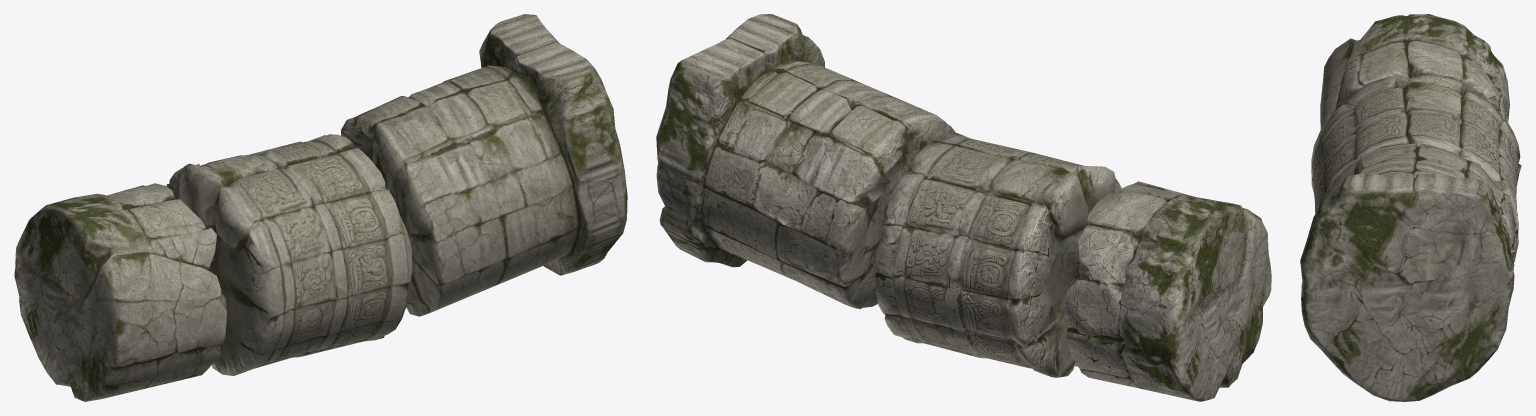
The model's file is ruin_column_fallen.glb.
3 renders of one model, left to right at view 1: azimuth 30°, elevation 25°; view 2: azimuth 150°, elevation 25°; view 3: azimuth 270°, elevation 25°, orthographic. The views are drawn at different scales.
Bounding box in the file's own units: 0.9541 × 0.4277 × 0.3735.
Materials: 1 (1 with a texture image).
